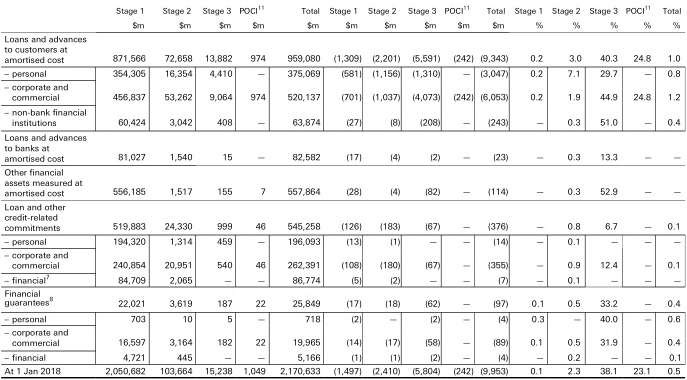column: (3, 1, 88, 380), (104, 1, 147, 380), (280, 1, 320, 380), (407, 1, 441, 380), (329, 1, 362, 380), (368, 1, 401, 380), (160, 1, 192, 380), (514, 1, 545, 380), (589, 1, 620, 380), (444, 1, 474, 380), (480, 1, 510, 380), (552, 1, 582, 380), (204, 1, 232, 380), (625, 1, 653, 380), (239, 1, 266, 380), (662, 1, 683, 380)
row: (1, 274, 687, 285), (1, 297, 687, 308), (1, 133, 687, 143), (1, 186, 687, 196), (1, 212, 687, 222), (1, 221, 687, 231), (1, 288, 687, 298), (1, 314, 687, 324), (1, 337, 687, 347), (1, 7, 687, 16), (1, 35, 687, 44), (1, 54, 687, 63), (1, 69, 687, 78), (1, 83, 687, 92), (1, 108, 687, 117), (1, 117, 687, 126), (1, 152, 687, 161), (1, 168, 687, 177), (1, 203, 687, 212), (1, 236, 687, 245), (1, 251, 687, 260), (1, 261, 687, 270), (1, 366, 687, 375), (1, 21, 687, 29), (1, 93, 687, 101), (1, 144, 687, 152), (1, 179, 687, 187), (1, 353, 687, 361), (1, 46, 687, 53), (1, 329, 687, 336)
